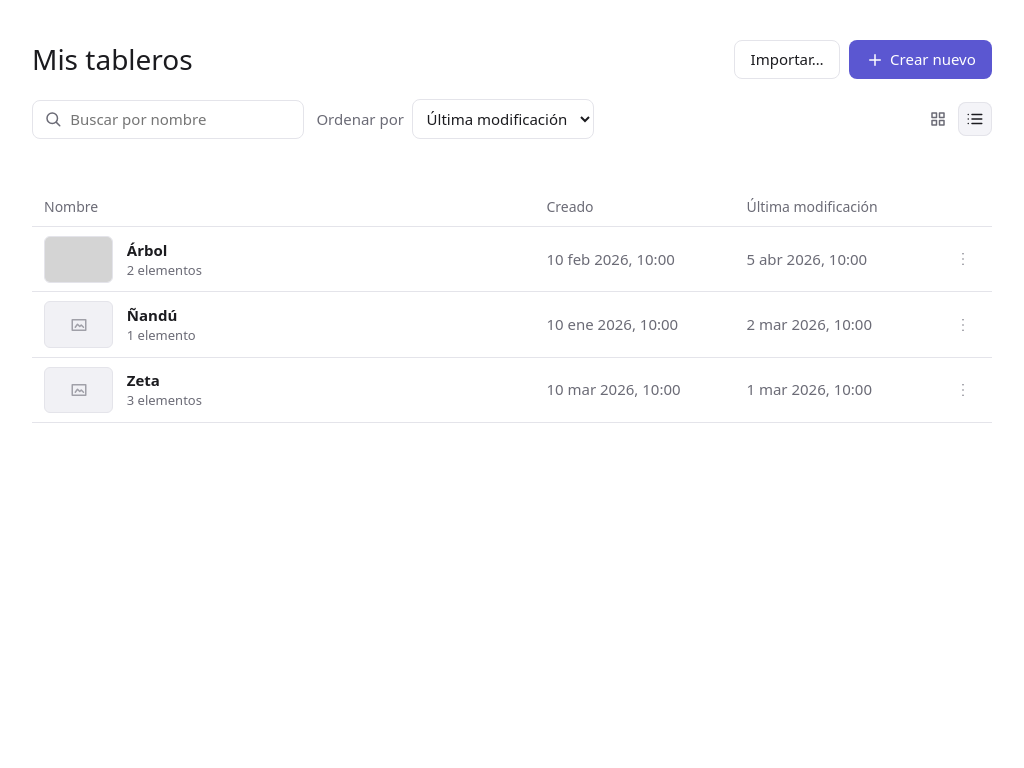
Scenario: delete › does nothing when cancelled (button or Escape)
This screenshot has width=1024, height=768.
Expected: the heading "Mis tableros" is shown, [32,40,193,79]
Expected: the link "Ñandú" is shown, [127,305,177,325]
Click the button named "Opciones de «Zeta»": point(963, 390) [946,373,980,407]
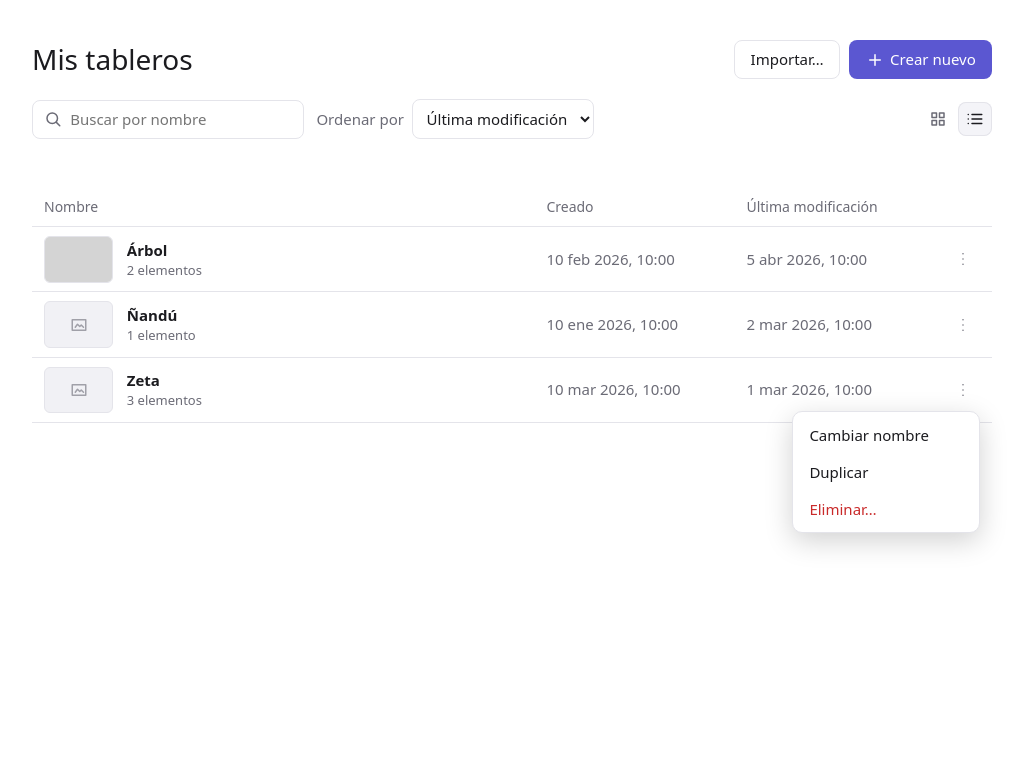
Click the menu item "Eliminar…": point(886, 509) [798,490,974,528]
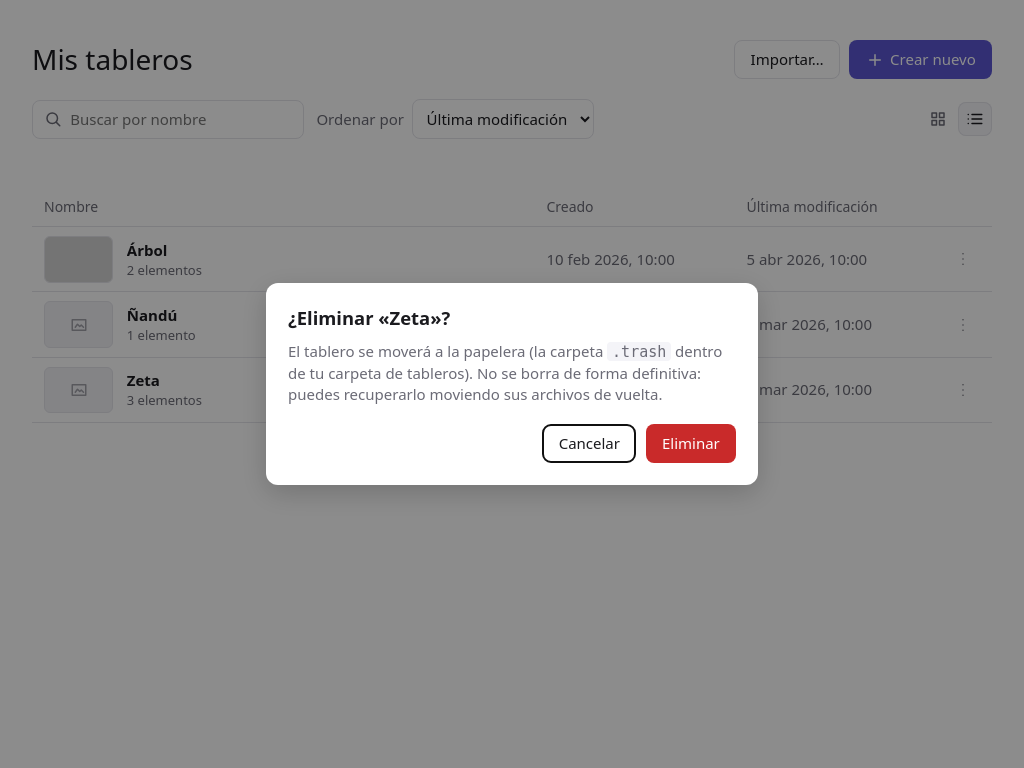
Click the button "Cancelar": point(589, 443) [542,424,636,463]
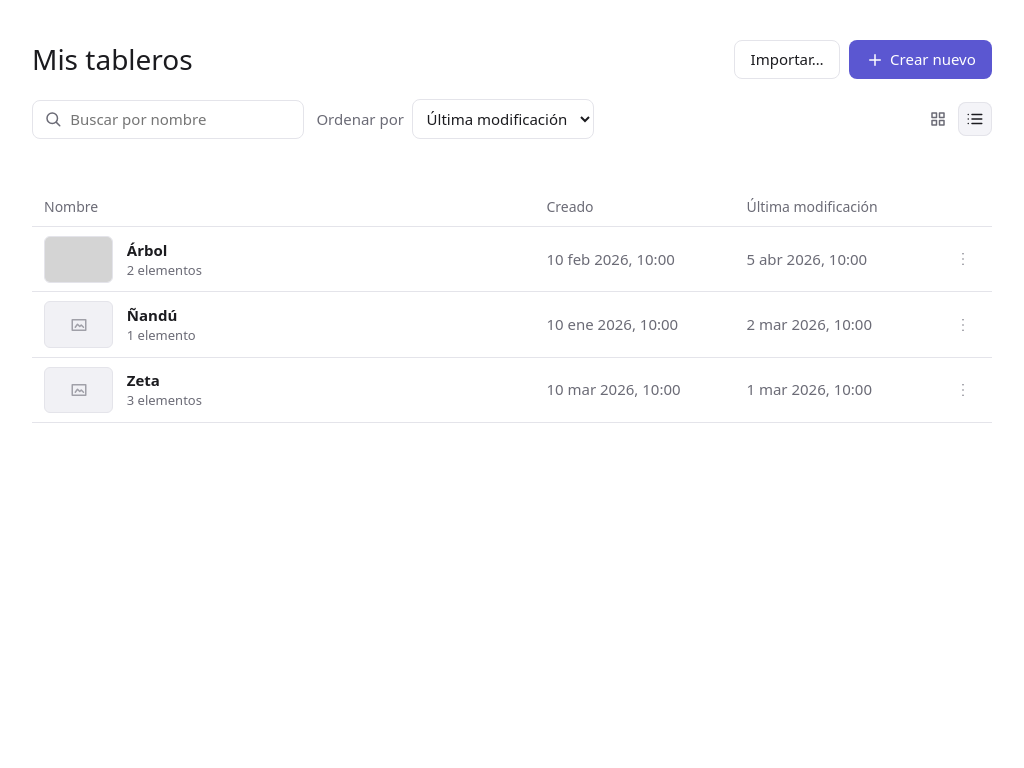
Result: the dialog is gone
Click the button named "Opciones de «Zeta»": point(963, 390) [946,373,980,407]
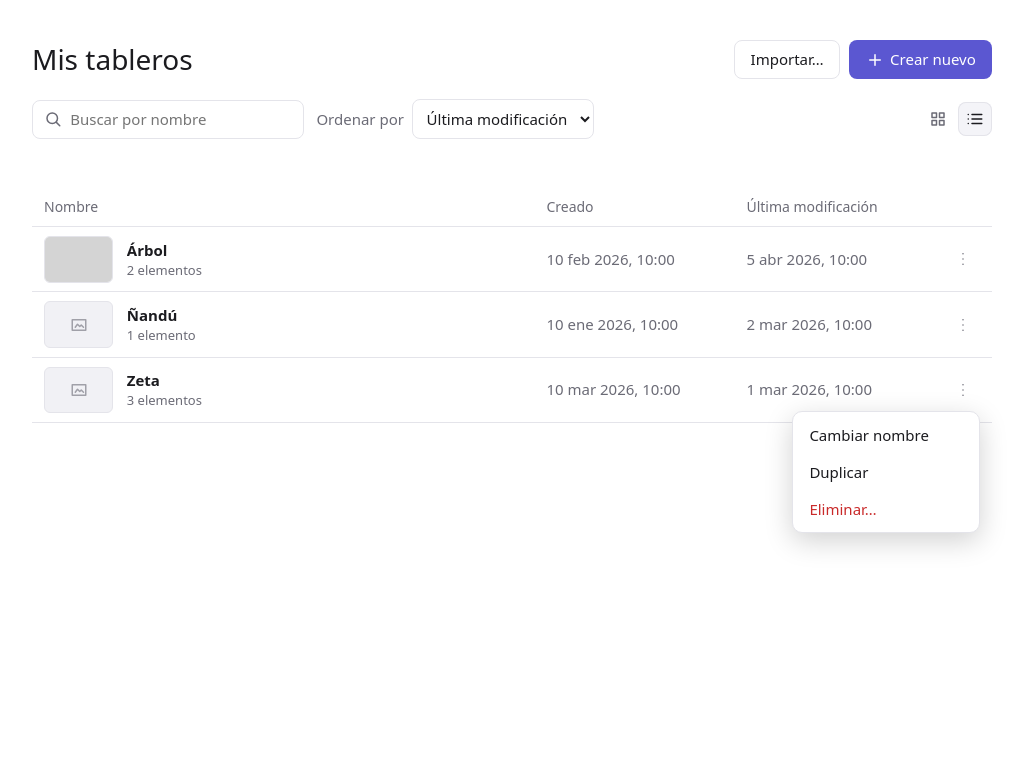
Click the menu item "Eliminar…": point(886, 509) [798,490,974,528]
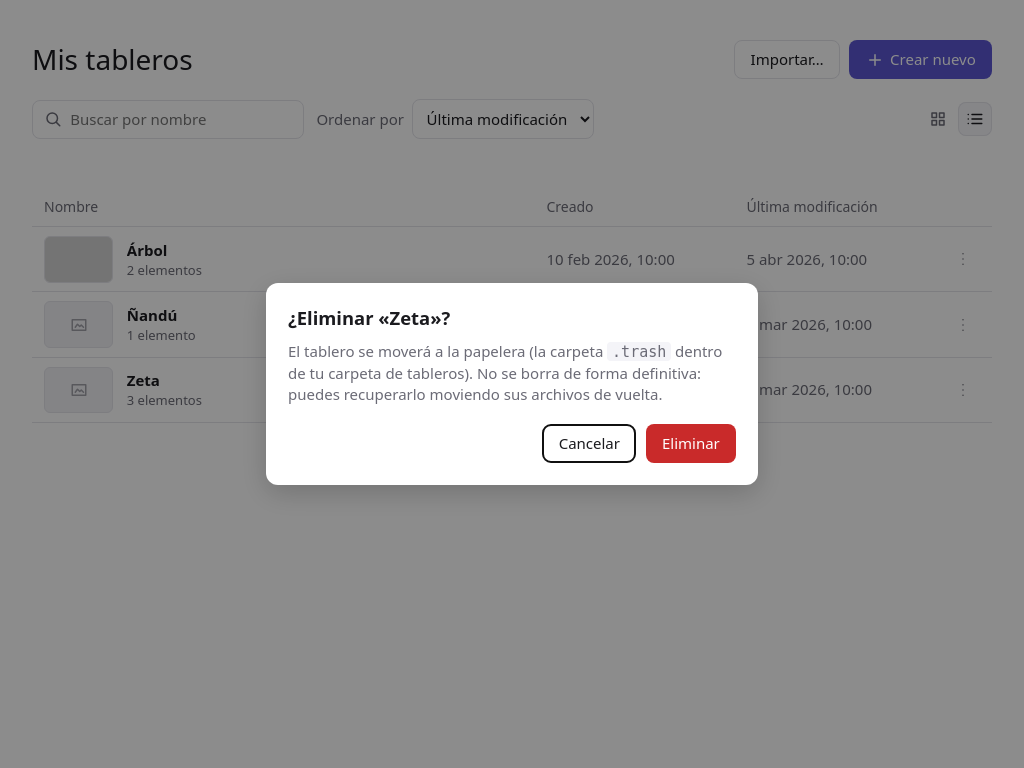
Press Escape
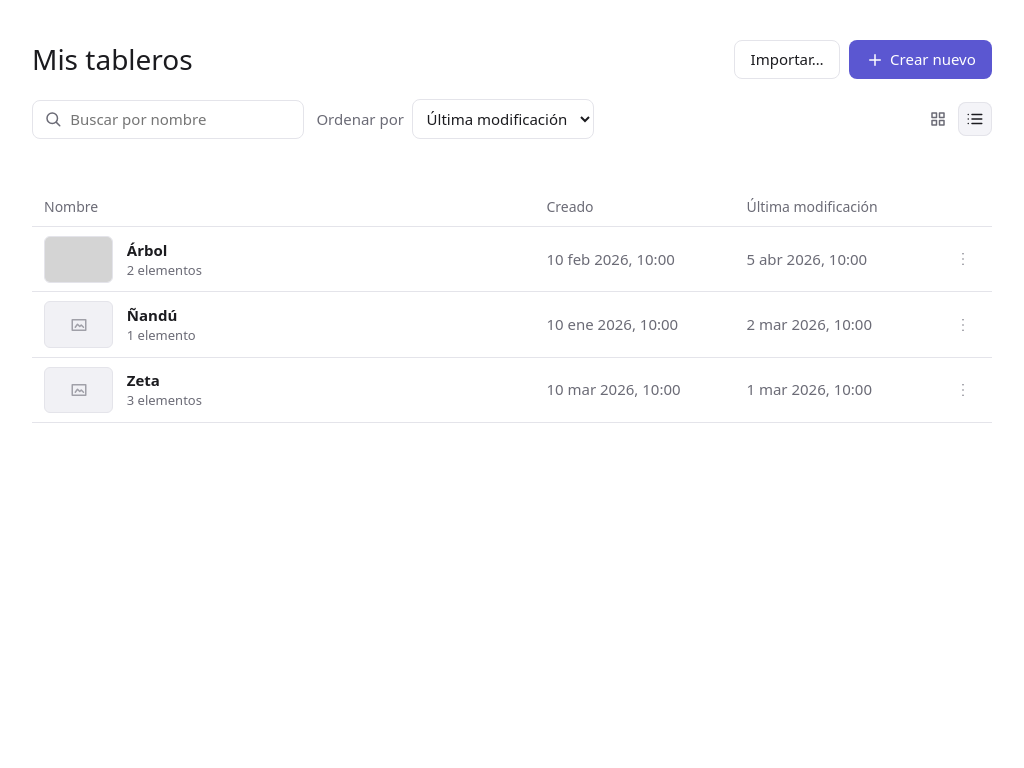
Result: the dialog is gone
